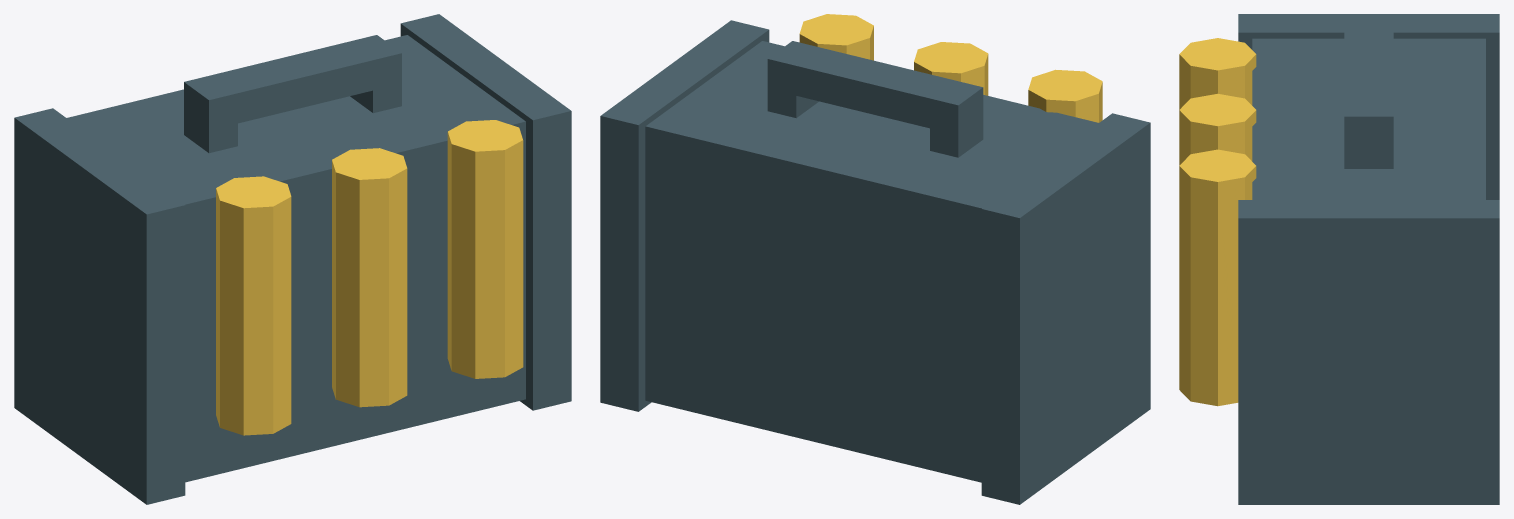
File: pickup-supply.glb
3 views of the same model, side by side, from view 1: azimuth 30°, elevation 25°; view 2: azimuth 150°, elevation 25°; view 3: azimuth 270°, elevation 25° (orthographic).
Parts seen in each view (by area): view 1: Case, Corner protection, Cylinder.002, Corner protection.001, Cylinder, Cylinder.001, Handle, Handle foot, Handle foot.001; view 2: Case, Corner protection, Corner protection.001, Handle, Cylinder, Cylinder.001, Cylinder.002, Handle foot, Handle foot.001; view 3: Corner protection.001, Case, Cylinder.002, Corner protection, Handle, Cylinder.001, Cylinder, Handle foot.001.
Part boxes in pixels (x1,y1,x2,y2): Case: [67, 35, 525, 482]; Corner protection: [14, 108, 185, 504]; Cylinder.002: [447, 120, 523, 378]; Corner protection.001: [400, 14, 571, 410]; Cylinder: [216, 176, 291, 435]; Cylinder.001: [332, 148, 407, 407]; Handle: [184, 35, 401, 130]; Handle foot: [184, 91, 237, 153]; Handle foot.001: [350, 62, 401, 113]; Case: [645, 41, 1098, 482]; Corner protection: [981, 113, 1150, 504]; Corner protection.001: [600, 20, 769, 411]; Handle: [767, 41, 983, 135]; Cylinder: [1028, 69, 1102, 122]; Cylinder.001: [914, 42, 988, 95]; Cylinder.002: [799, 14, 873, 60]; Handle foot: [930, 98, 983, 157]; Handle foot.001: [767, 68, 818, 118]; Corner protection.001: [1238, 200, 1499, 504]; Case: [1252, 38, 1485, 199]; Cylinder.002: [1179, 149, 1256, 406]; Corner protection: [1238, 14, 1499, 199]; Handle: [1344, 23, 1393, 146]; Cylinder.001: [1179, 93, 1256, 165]; Cylinder: [1179, 38, 1256, 109]; Handle foot.001: [1344, 125, 1393, 168].
Size of the model in its own units: 1.76 by 1.33 by 1.17.
